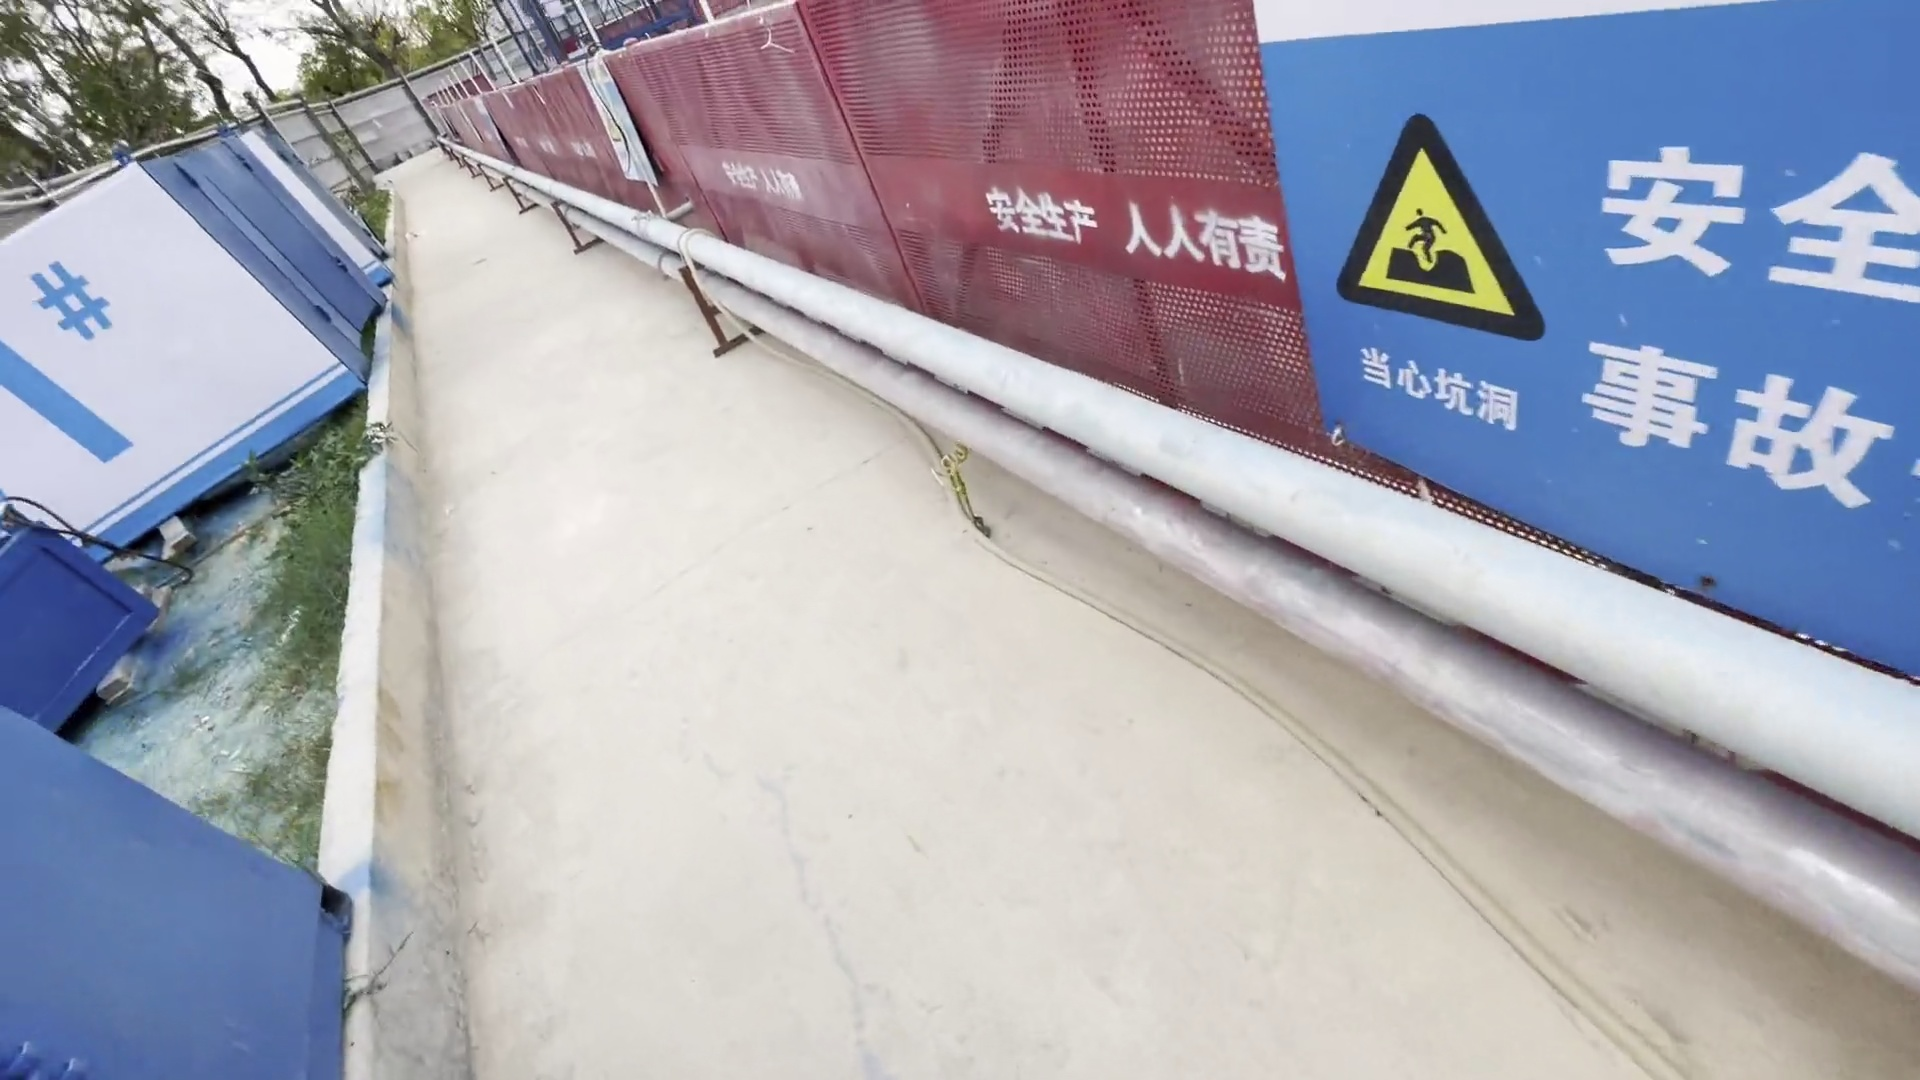fence: (444, 8, 1915, 477)
slogan: (1249, 30, 1920, 637)
